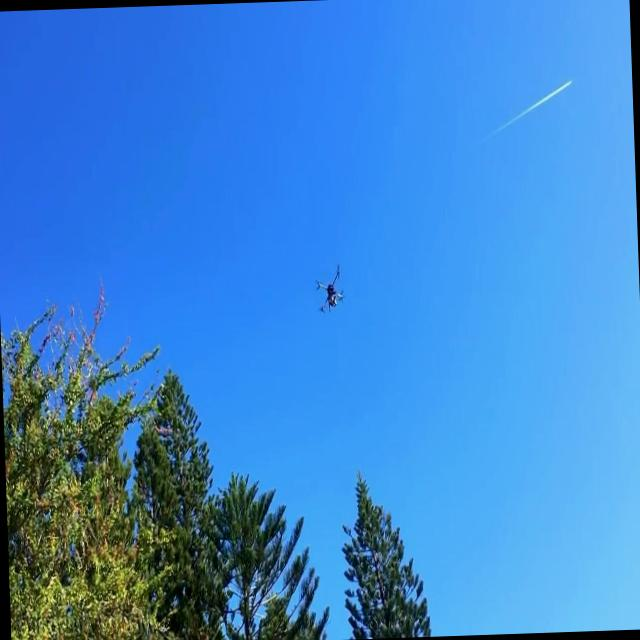drone: (314, 260, 346, 314)
